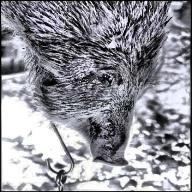boar: (42, 0, 168, 174)
